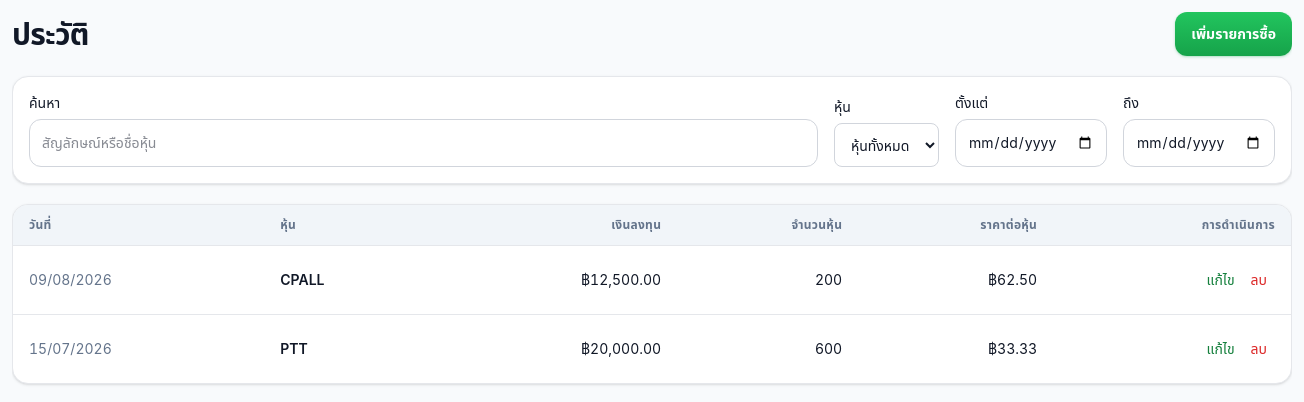
it: HistoryPage › searches by Thai name
Expected: the table is shown, left=13, top=205, right=1291, bottom=383
Type "ปตท" into the search field labelled "ค้นหา".
click(424, 143); type("ปตท")  # box left=42, top=133, right=805, bottom=153
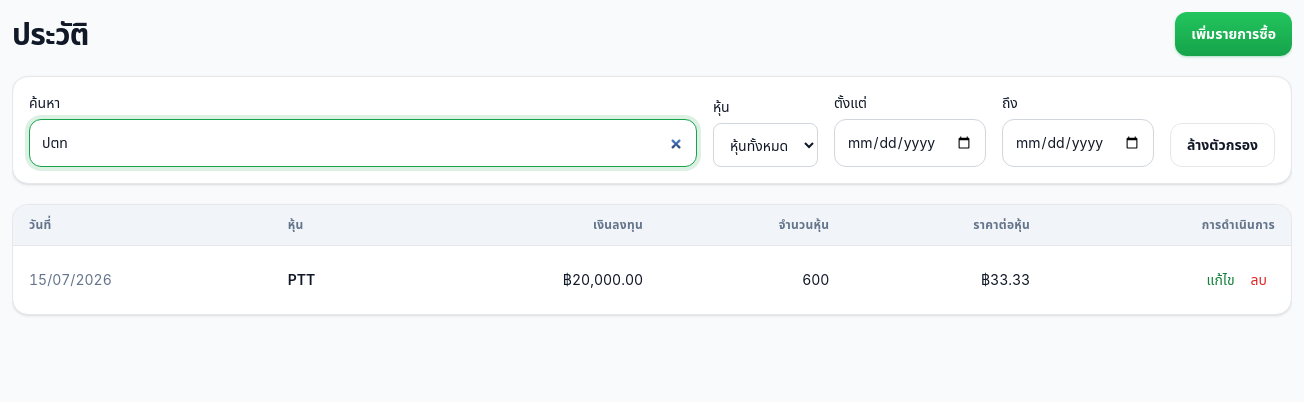
Expected: the text "PTT" is shown, left=272, top=246, right=406, bottom=314
Now the text "CPALL" is gone
